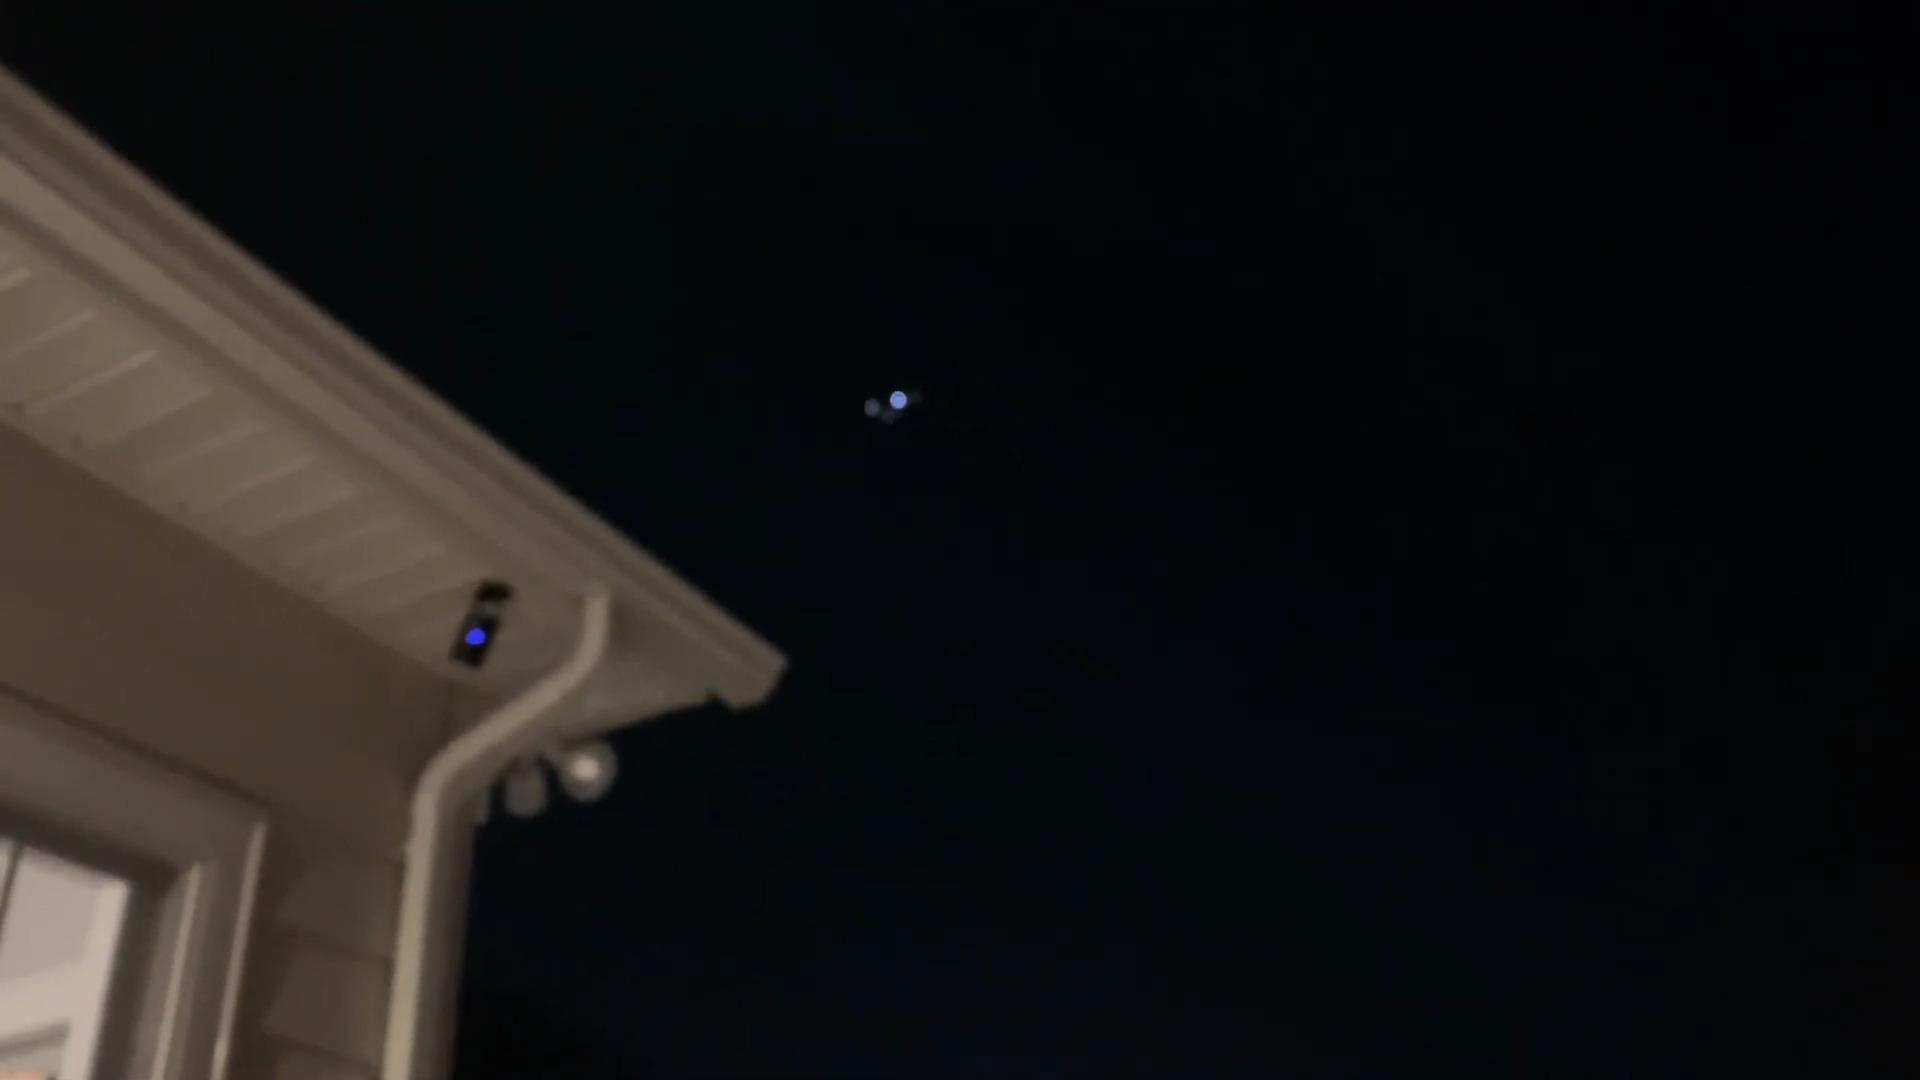Plane: (856, 369, 948, 442)
